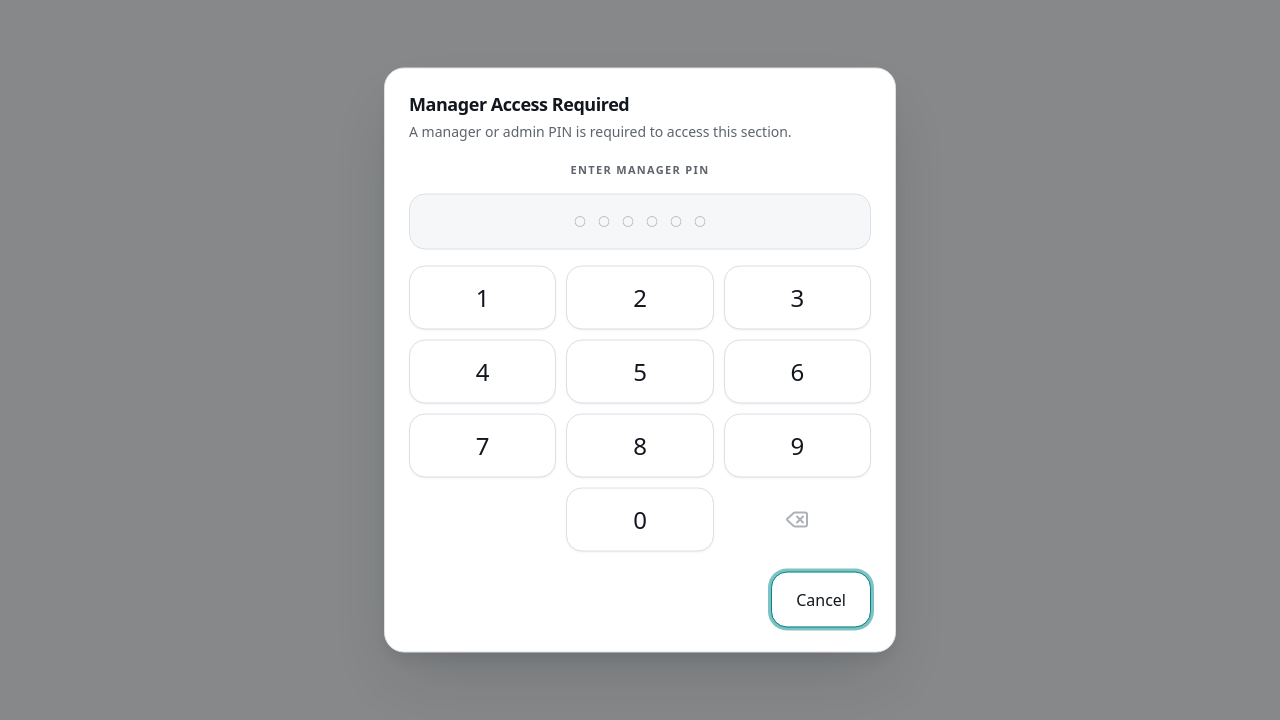
Test: ManagerPinDialog › INVALID_PIN shows the incorrect-PIN error
The width and height of the screenshot is (1280, 720).
Click the button named "Key 0": (640, 520) [566,488,714,552]
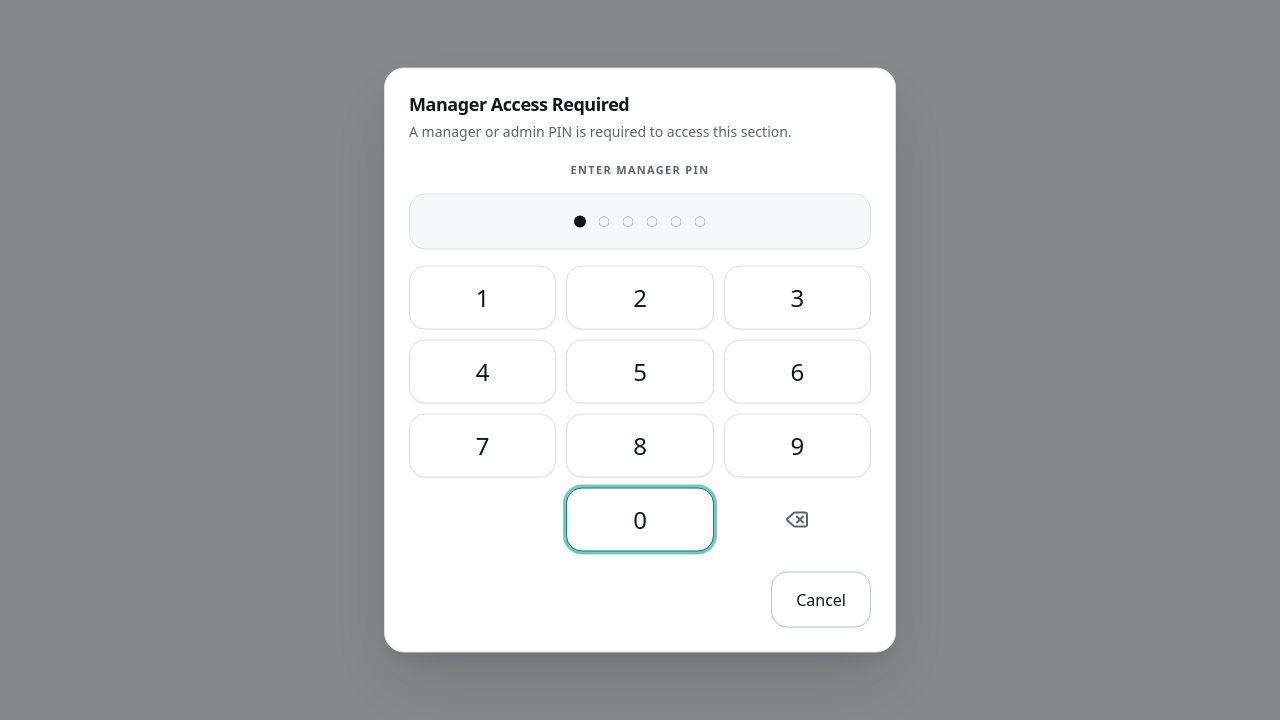
Click the button named "Key 0": (640, 520) [566,488,714,552]
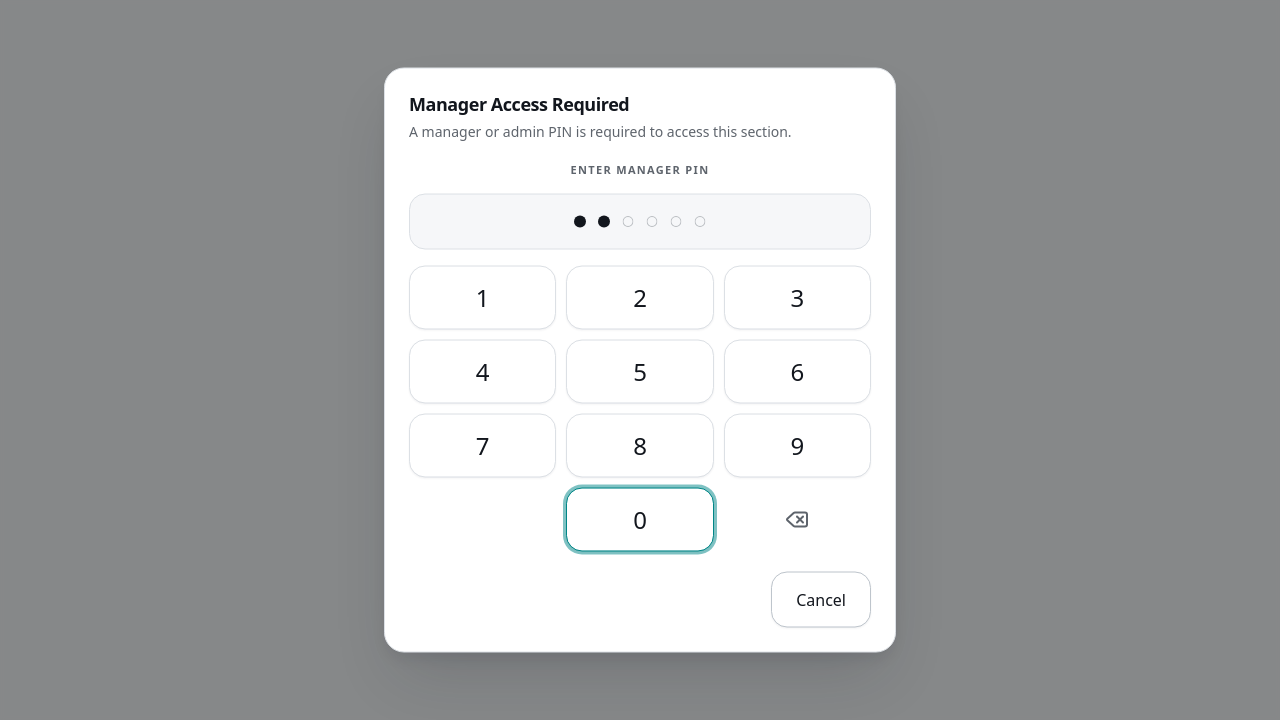
Click the button named "Key 0": (640, 520) [566,488,714,552]
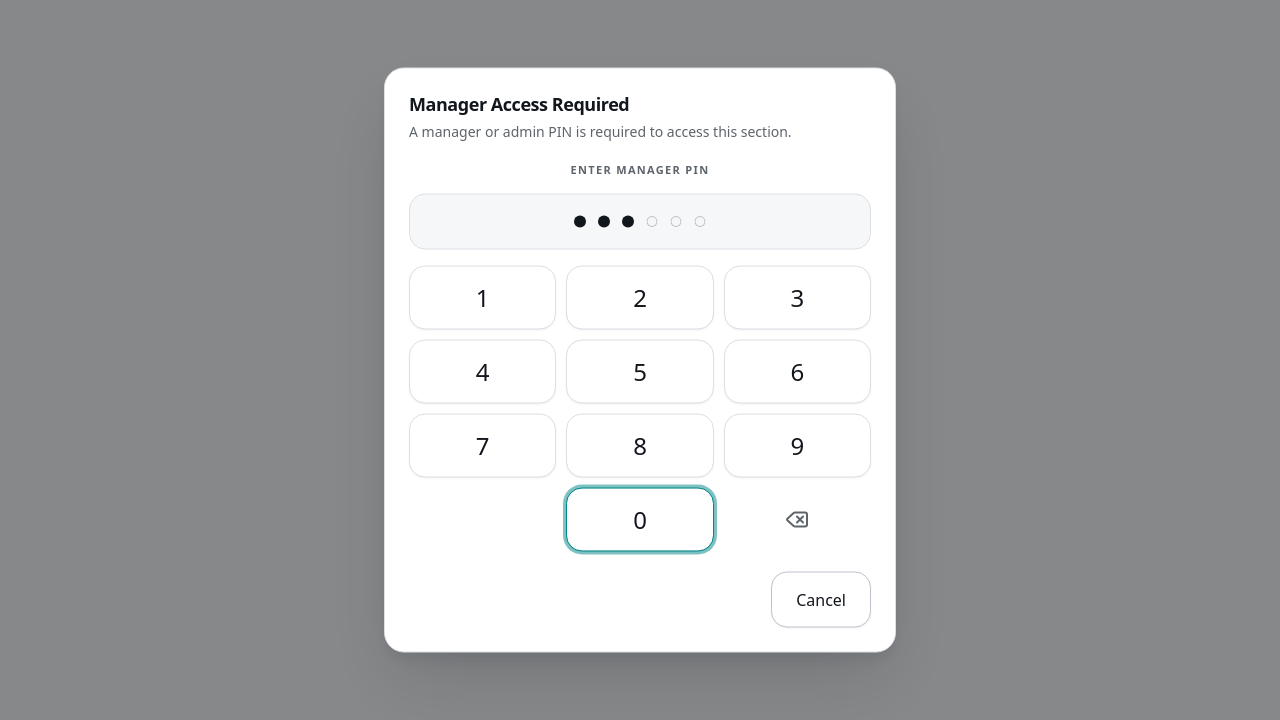
Click the button named "Key 0": (640, 520) [566,488,714,552]
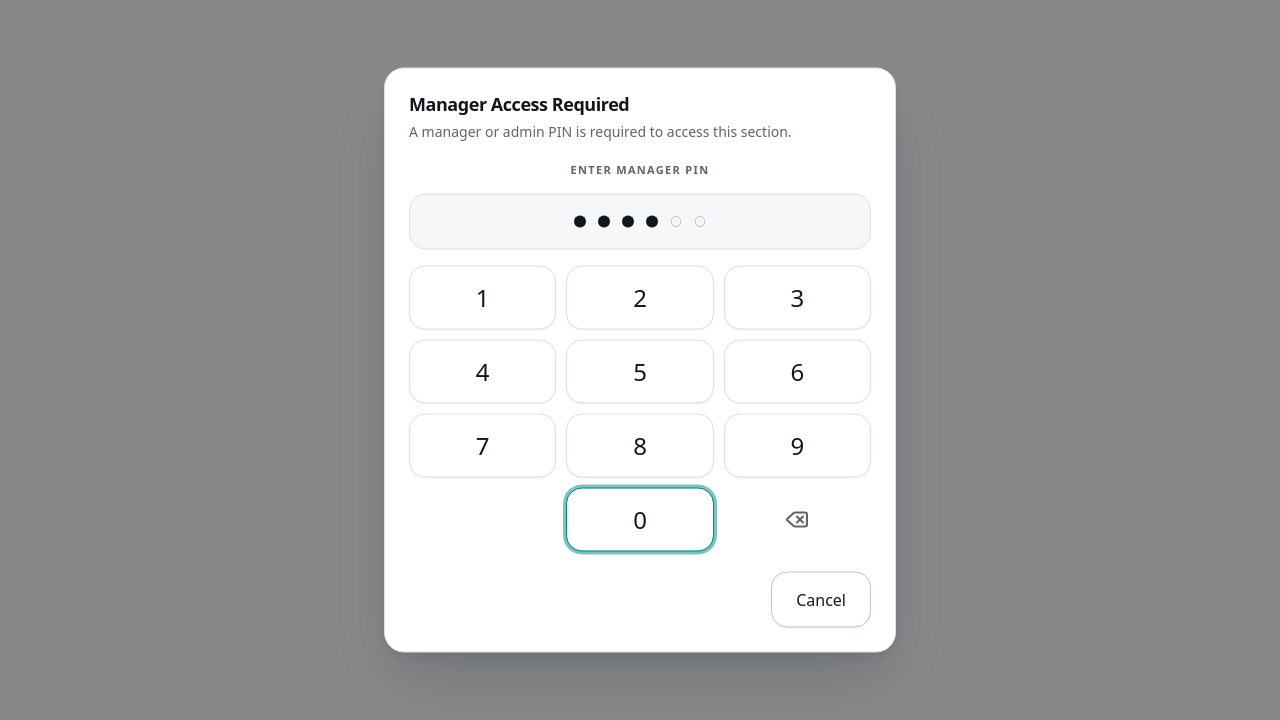
Click the button named "Key 0": (640, 520) [566,488,714,552]
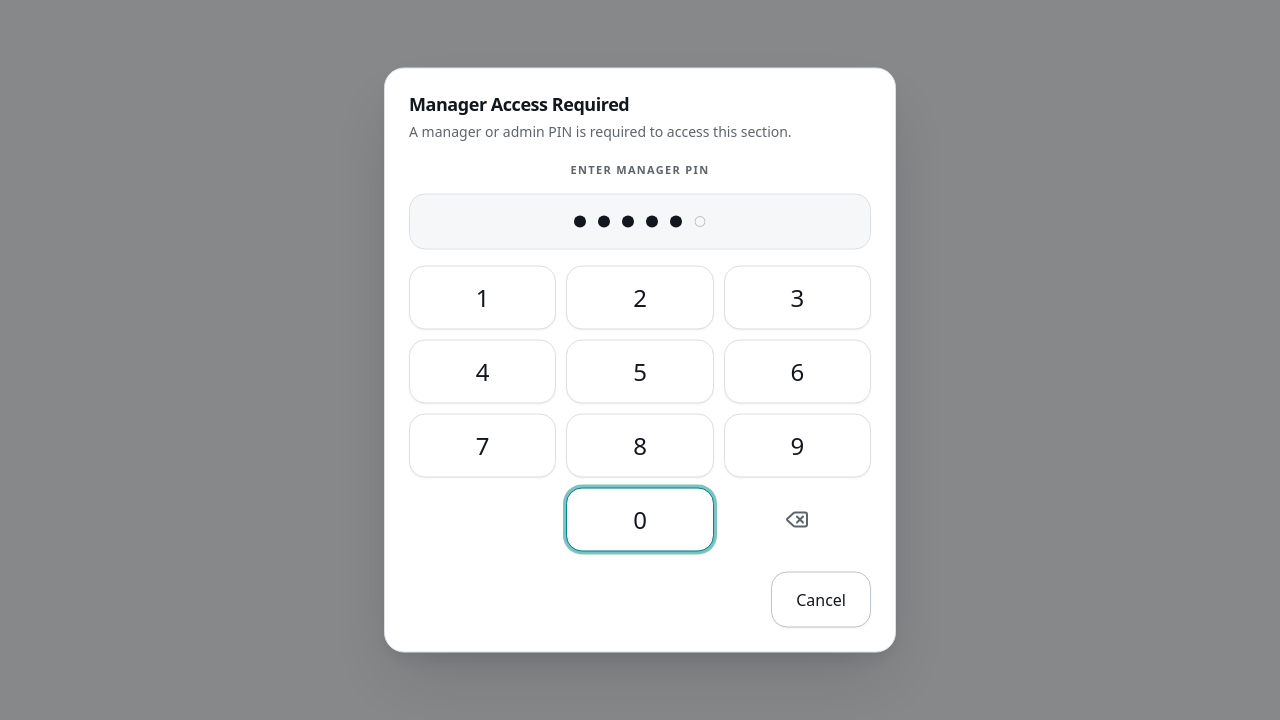
Click the button named "Key 0": (640, 520) [566,488,714,552]
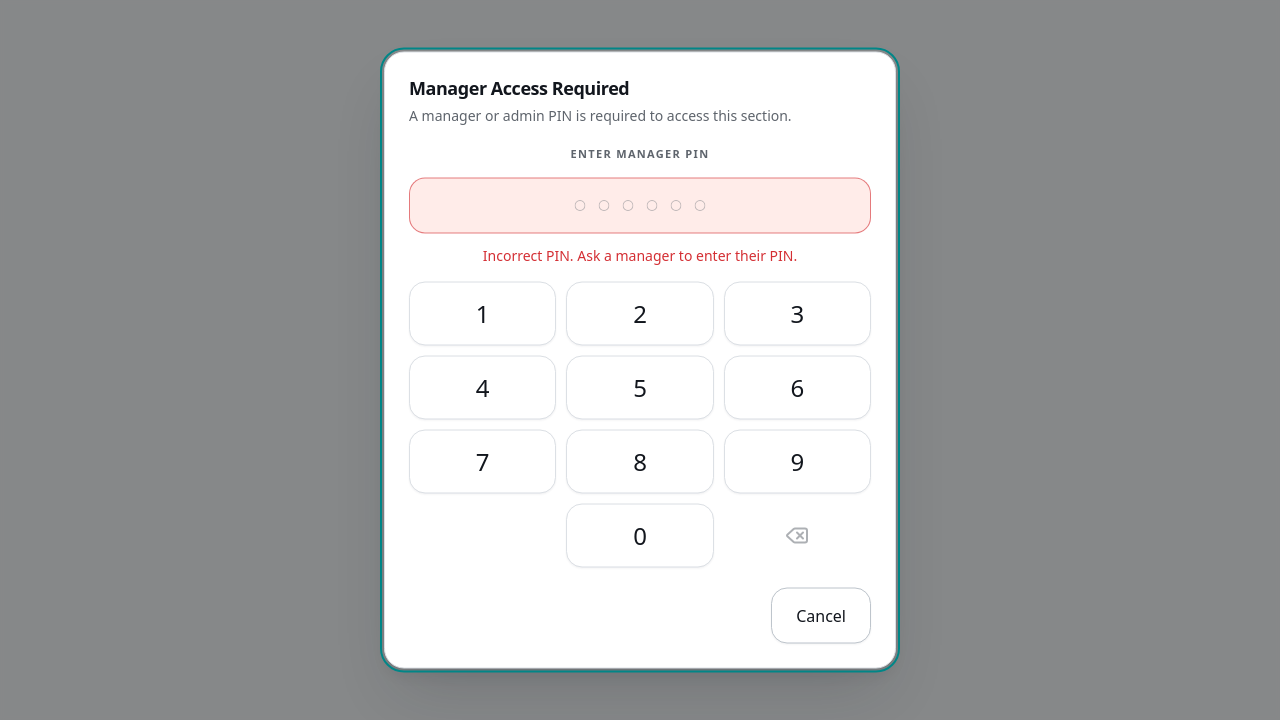
Expected: the text "Incorrect PIN. Ask a manager to enter their PIN." is shown, [483,246,797,264]
